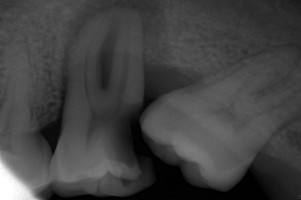Dental Caries: (69, 0, 199, 96)
